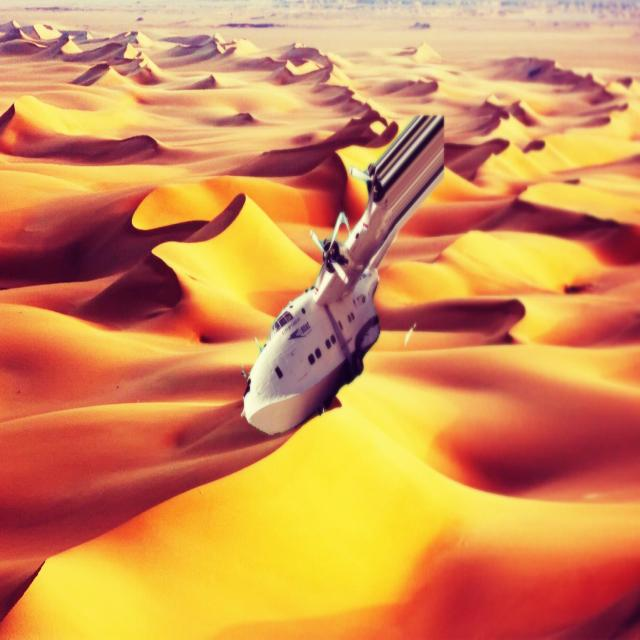airplane: (241, 114, 444, 438)
